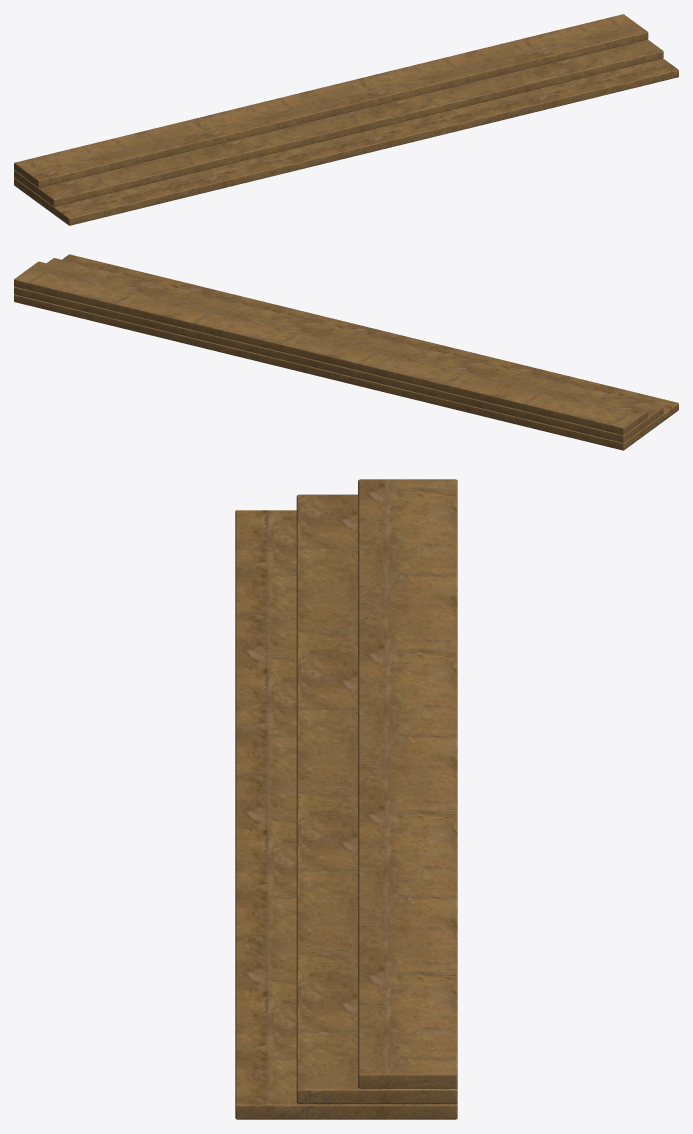
The model's file is chancel_steps.glb.
3 renders of one model, top to bottom at view 1: azimuth 30°, elevation 25°; view 2: azimuth 150°, elevation 25°; view 3: azimuth 270°, elevation 25°, orthographic. The views are drawn at different scales.
Visible parts, largest first — view 1: LimestoneSurface; view 2: LimestoneSurface; view 3: LimestoneSurface.
Boxes of the visible parts, x1,y1,x2,y2 form: LimestoneSurface: (14,14,678,225); LimestoneSurface: (14,254,678,450); LimestoneSurface: (235,479,457,1119).
Size of the model in its own units: 6.65 by 0.24 by 1.05.
Materials: 1 (1 with a texture image).
